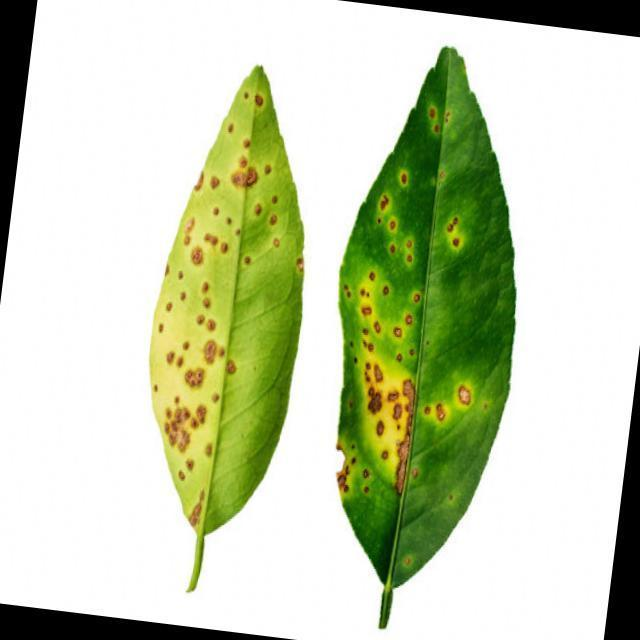Bacterial Spot: (318, 93, 514, 521), (131, 71, 302, 532)
